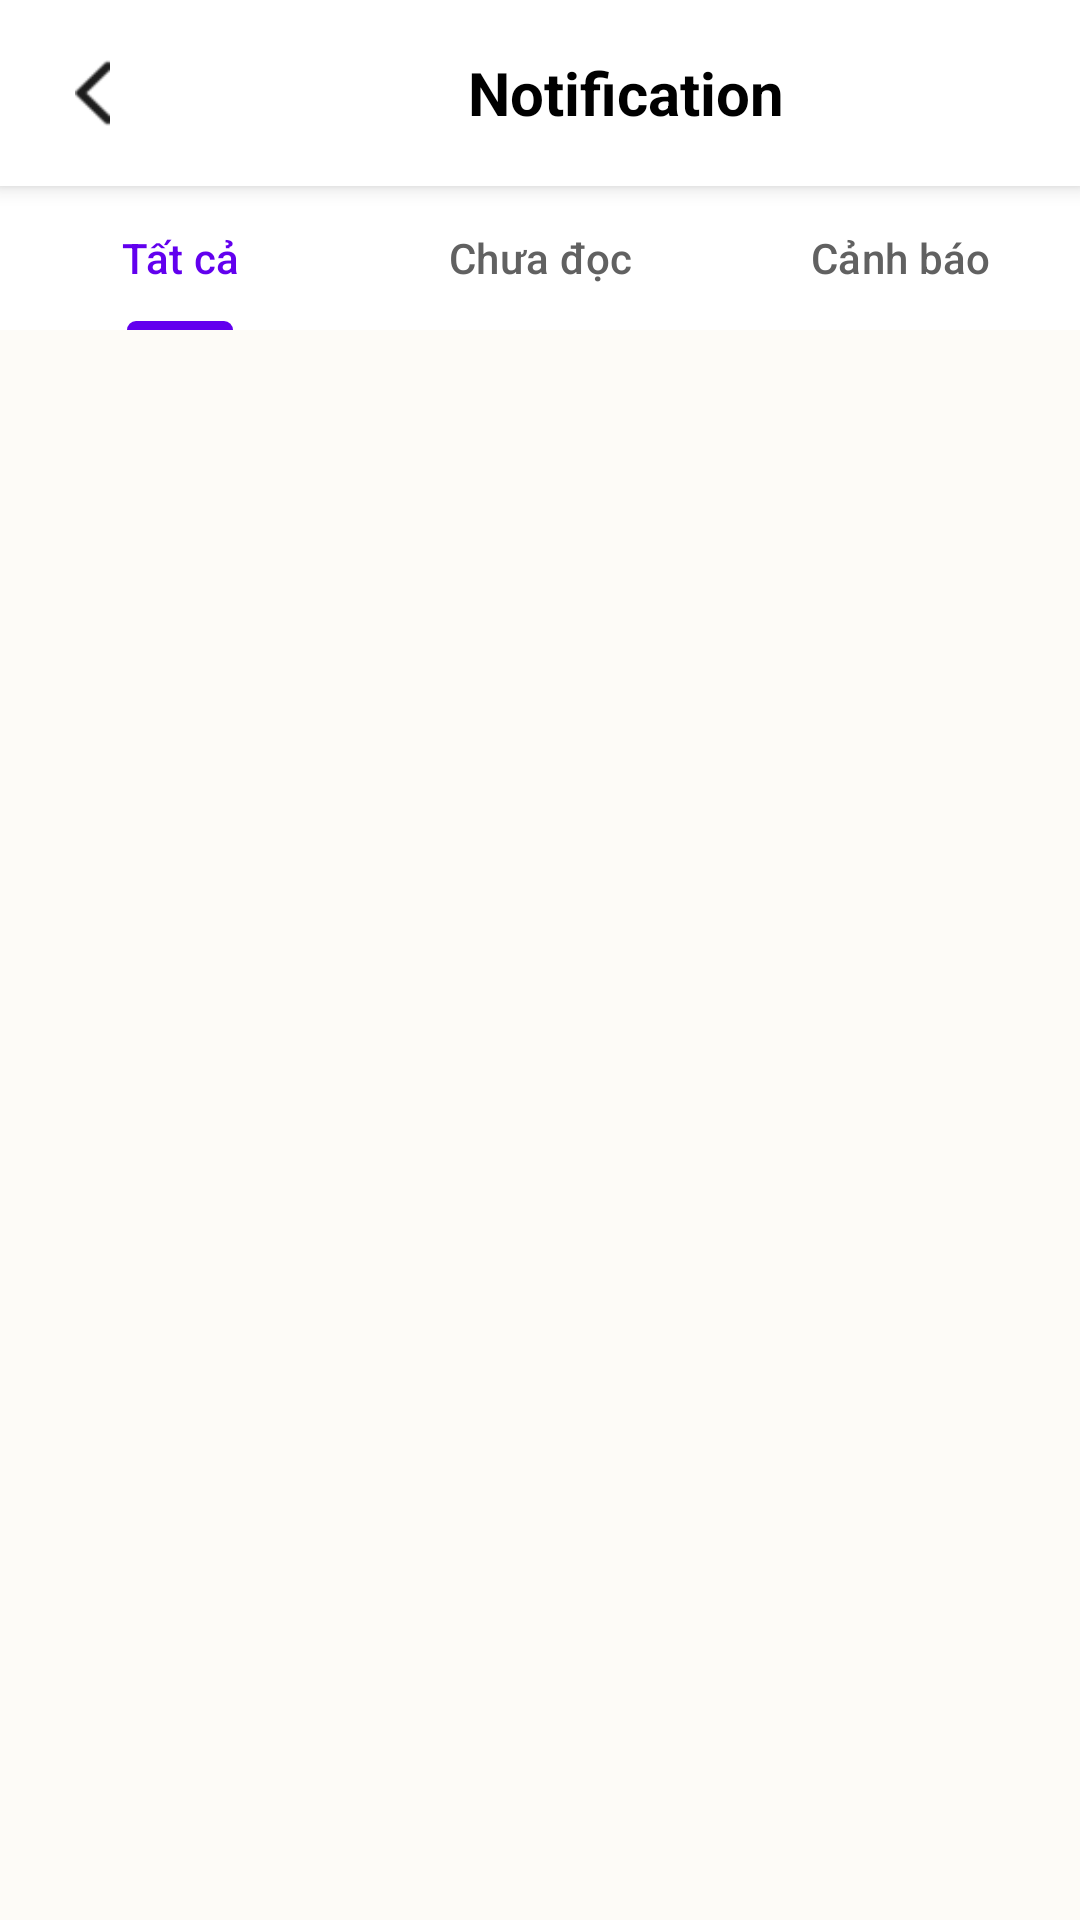

Screen size 1080px x 1920px. Icon name, then its center in pixels as (x,y):
icreturn: (92,93)
